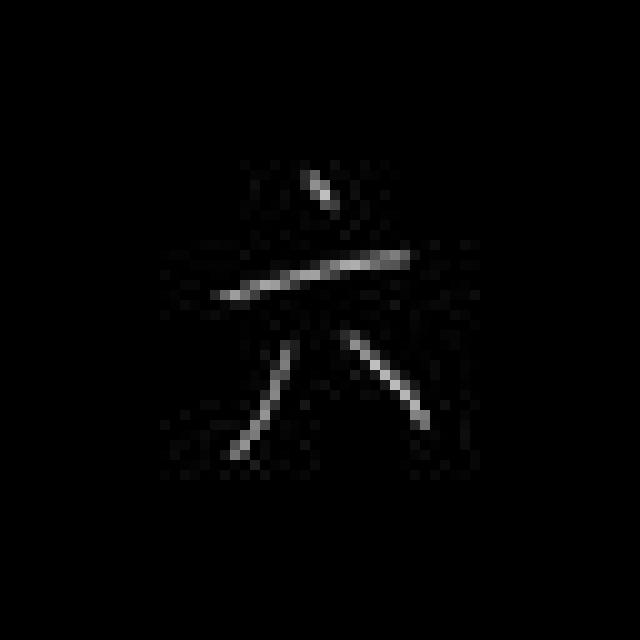6 -six-: (202, 165, 443, 462)
